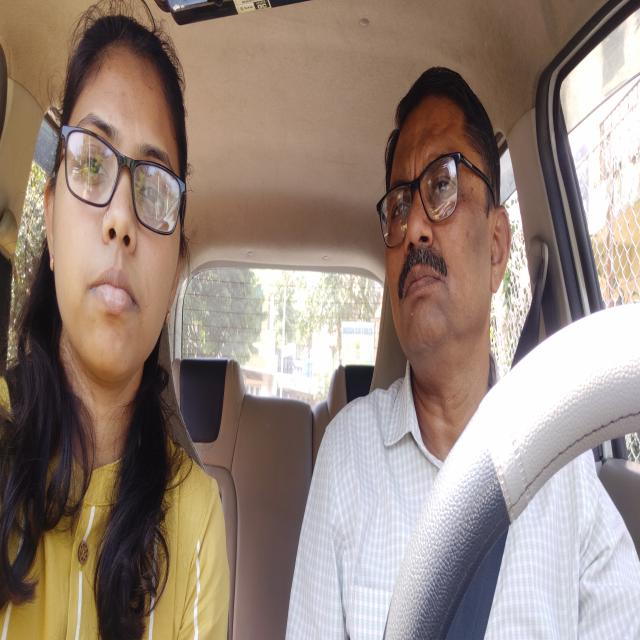person: (41, 0, 193, 401), (374, 63, 516, 378)
